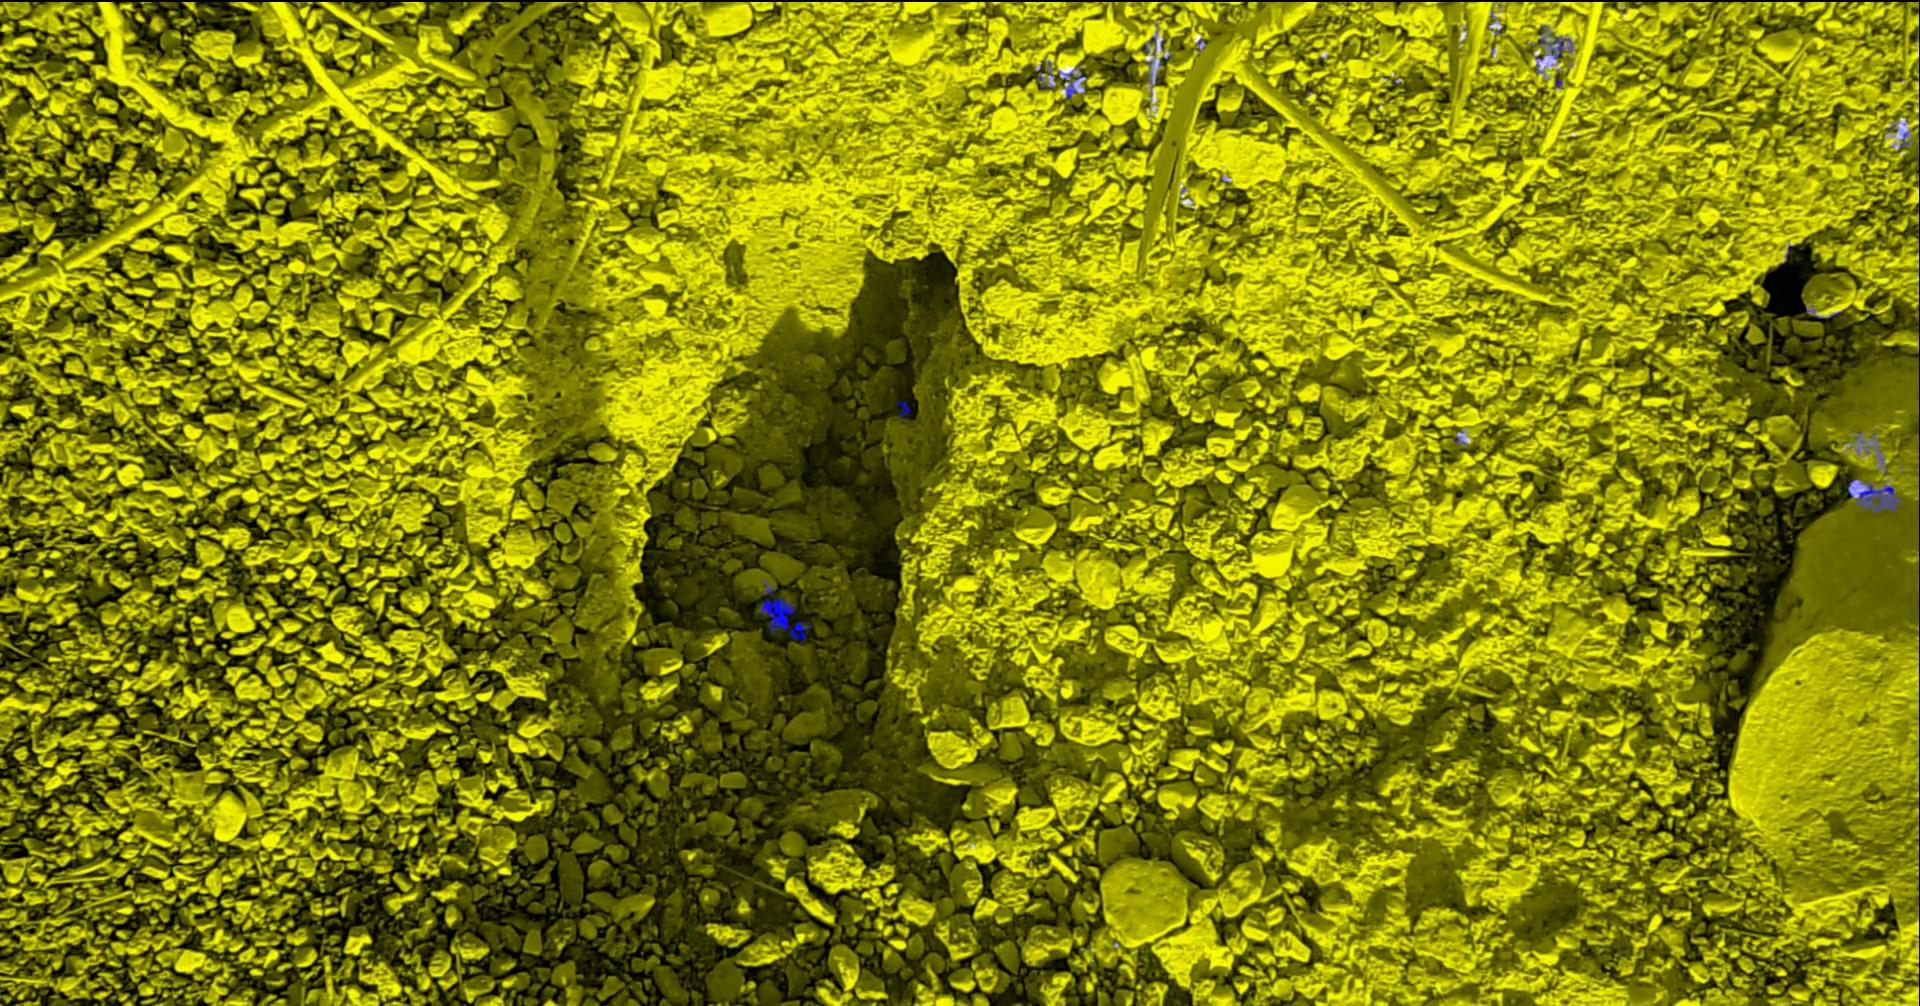ant: (1857, 483, 1902, 512), (1542, 25, 1572, 58), (1063, 72, 1088, 99), (1037, 64, 1057, 88), (898, 400, 912, 417)
